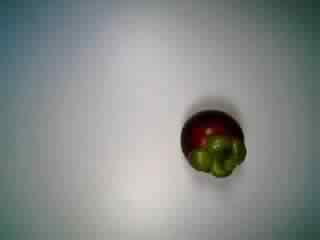mangosteen: (169, 105, 247, 181)
